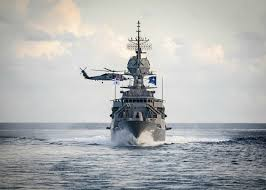tau_muctieu: (105, 34, 171, 148)
